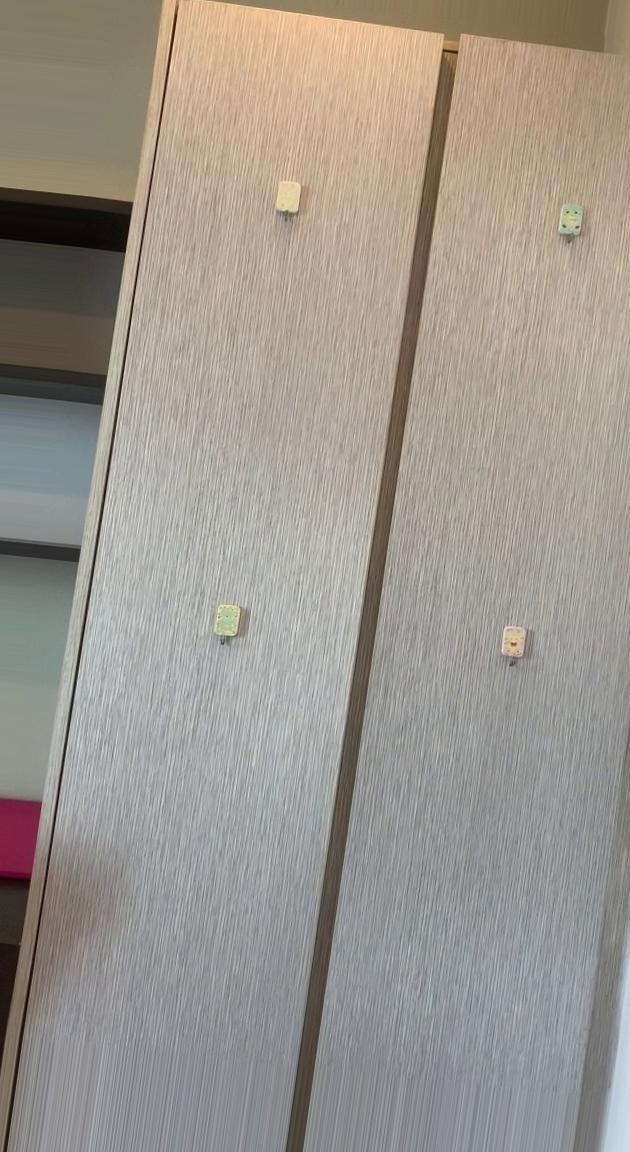Armario: (0, 11, 623, 1151)
